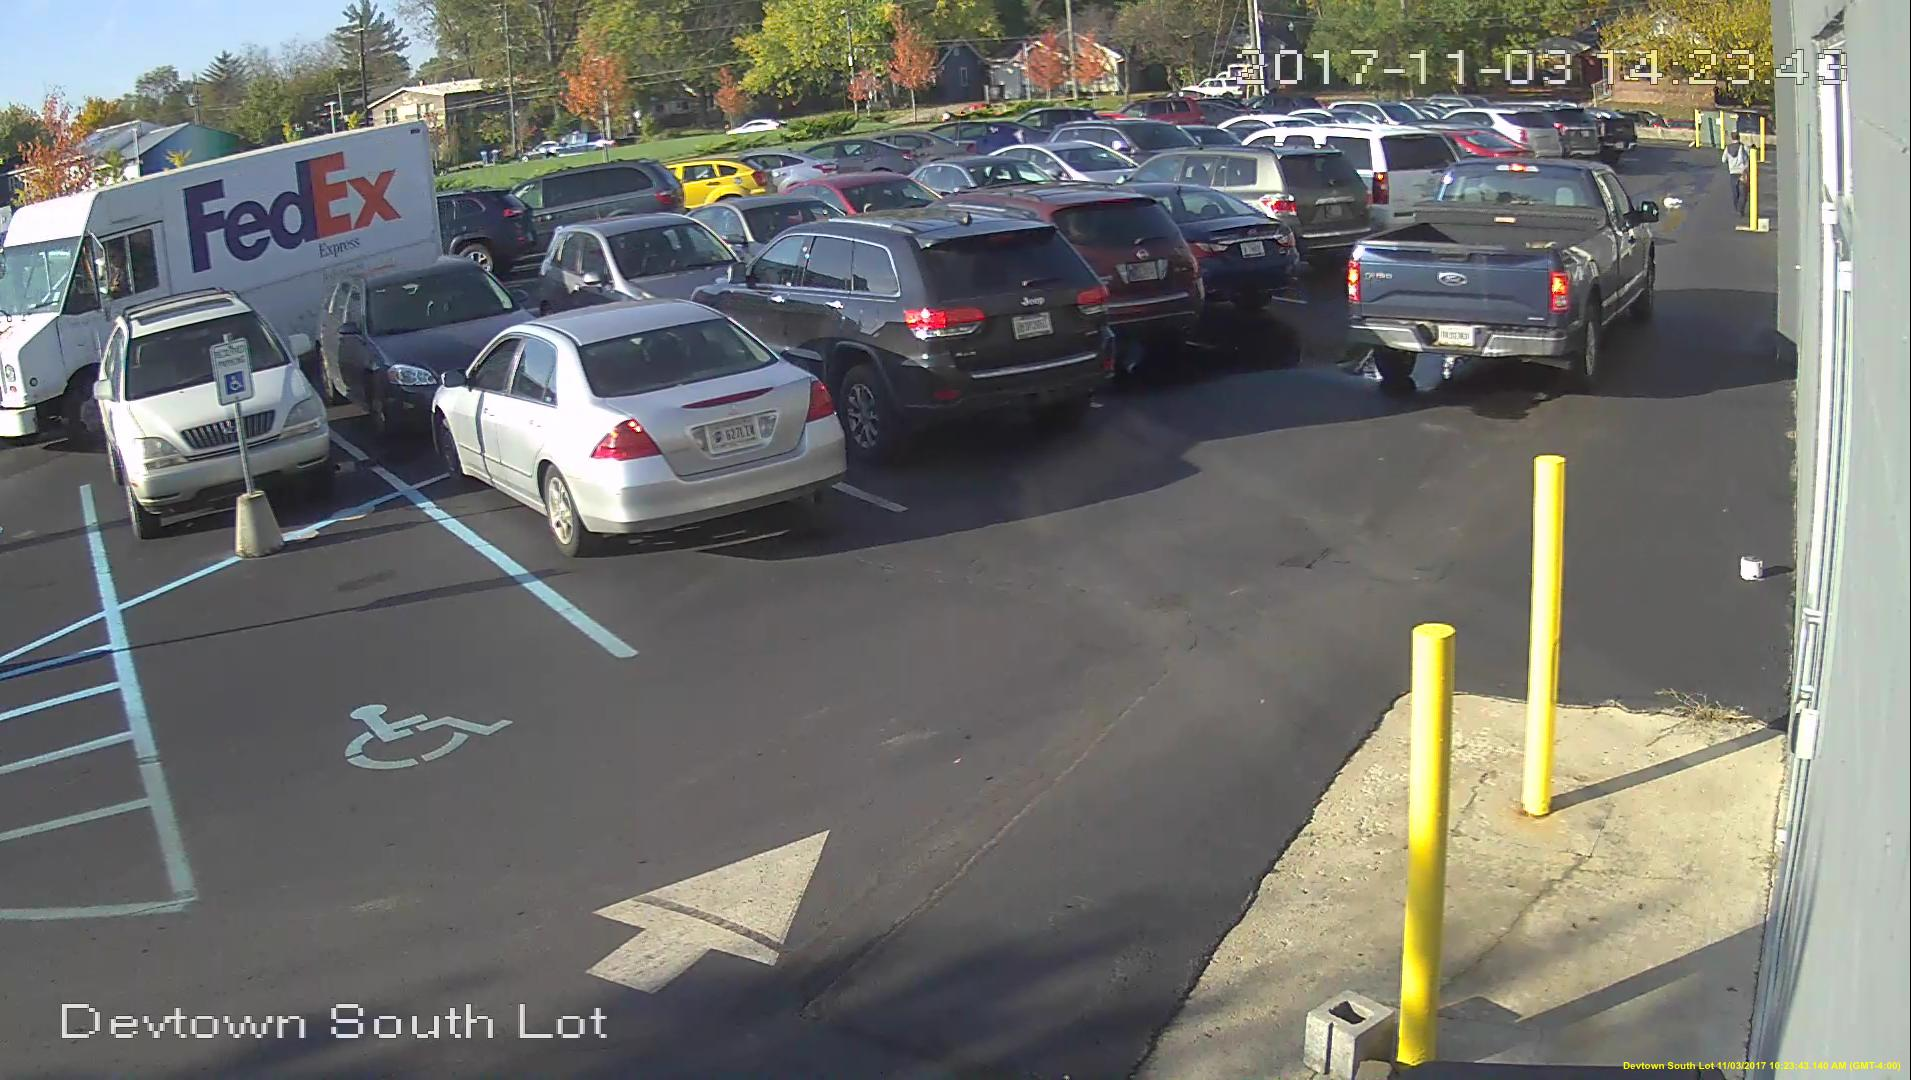fedex_truck: (1, 119, 445, 442)
